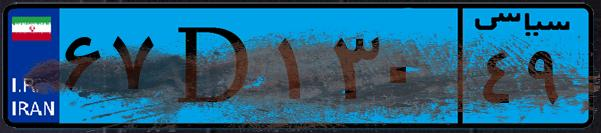0: (385, 28, 445, 110)
1: (270, 28, 330, 110)
3: (330, 28, 385, 110)
4: (475, 38, 525, 113)
6: (57, 26, 110, 100)
7: (110, 28, 158, 98)
9: (525, 38, 570, 115)
D: (158, 12, 270, 120)
